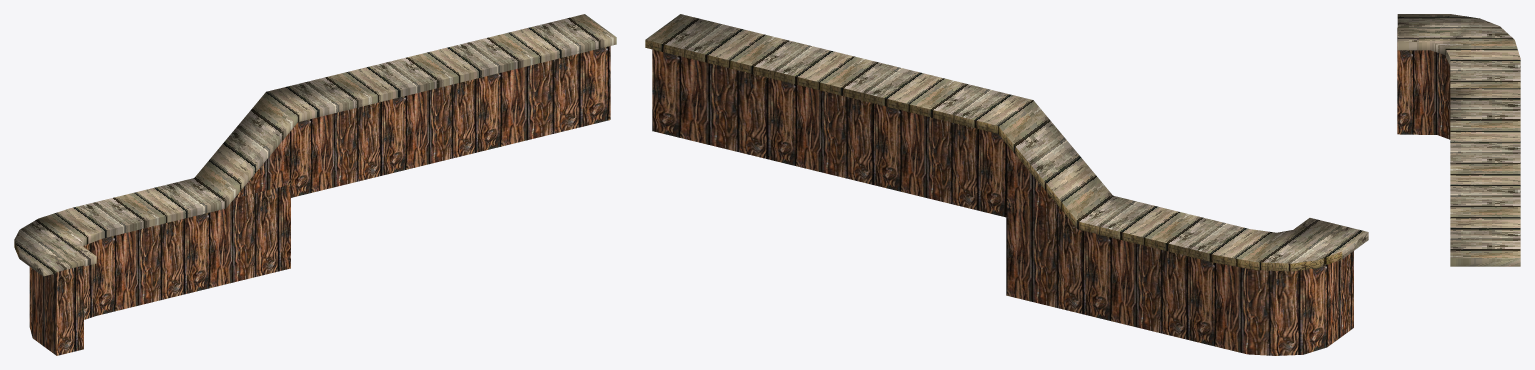
Rendered from LAKETOWN_PUB_PS_PUB_BAR764__GX.fbx.
3 views of the same model, side by side, from view 1: azimuth 30°, elevation 25°; view 2: azimuth 150°, elevation 25°; view 3: azimuth 270°, elevation 25° (orthographic). The views are drawn at different scales.
Visible parts, largest first — view 1: LAKETOWN_PUB_PS_PUB_BAR764__GX; view 2: LAKETOWN_PUB_PS_PUB_BAR764__GX; view 3: LAKETOWN_PUB_PS_PUB_BAR764__GX.
Boxes of the visible parts, <box> form: LAKETOWN_PUB_PS_PUB_BAR764__GX: <box>14,14,616,355</box>; LAKETOWN_PUB_PS_PUB_BAR764__GX: <box>645,14,1368,355</box>; LAKETOWN_PUB_PS_PUB_BAR764__GX: <box>1397,14,1520,266</box>.
Bounding box in the file's own units: 71769 × 18164 × 11634.
Materials: 3 (3 with a texture image).
